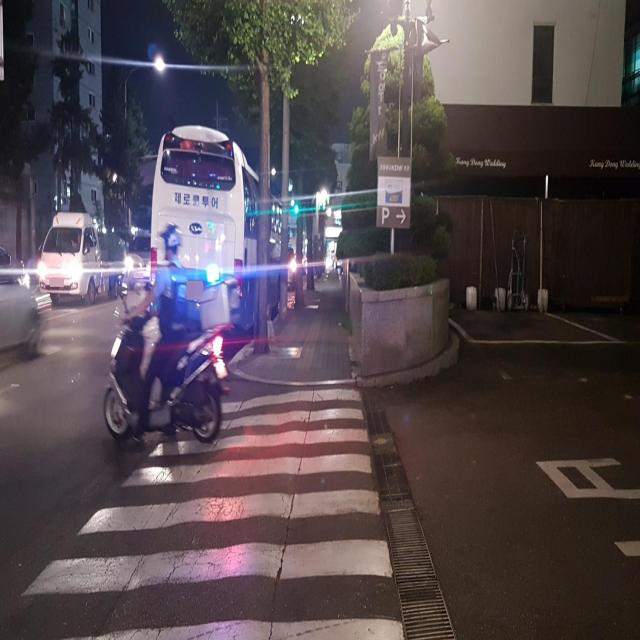횡단보도: (17, 382, 405, 640)
